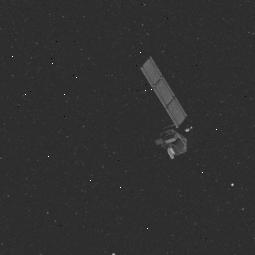earth_observation_sat_1: (136, 55, 202, 162)
